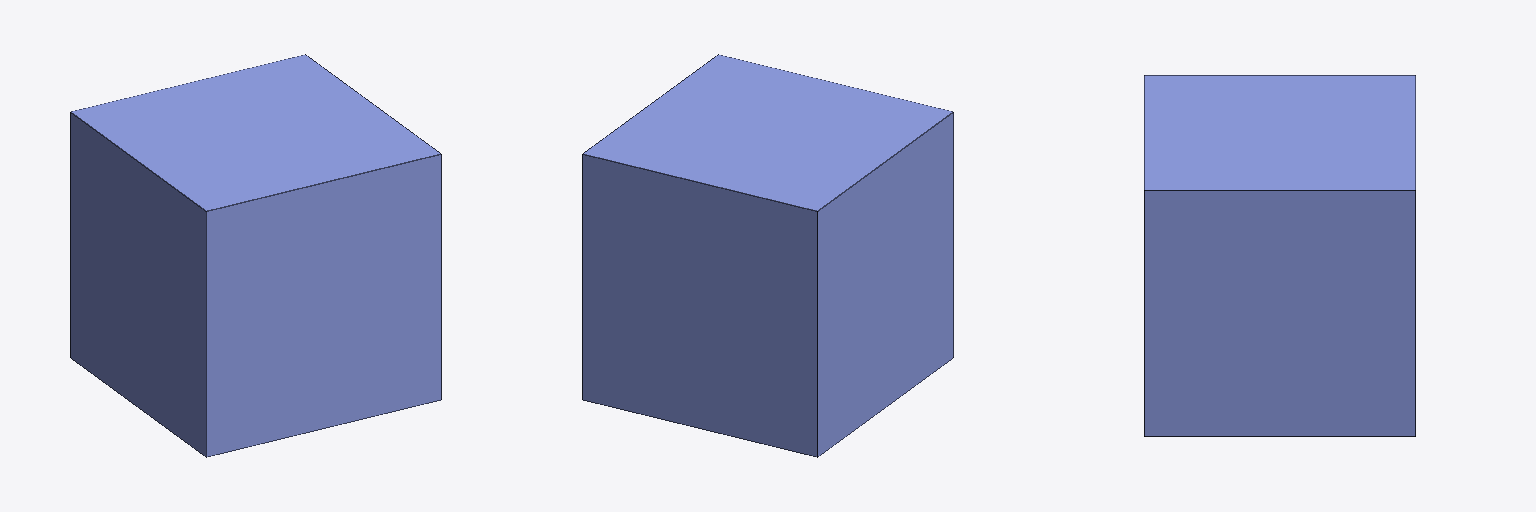
The picture shows the model from 3 angles: view 1: azimuth 30°, elevation 25°; view 2: azimuth 150°, elevation 25°; view 3: azimuth 270°, elevation 25°; orthographic projection.
Parts seen in each view (by area): view 1: Cube; view 2: Cube; view 3: Cube.
Boxes of the visible parts, <box> form: Cube: <box>70,54,441,457</box>; Cube: <box>582,54,953,457</box>; Cube: <box>1144,75,1415,436</box>.
Bounding box in the file's own units: 2 × 2 × 2.
Materials: 1 (1 with a texture image).